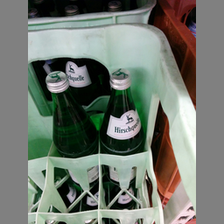water: (43, 68, 102, 183), (99, 67, 147, 205)
